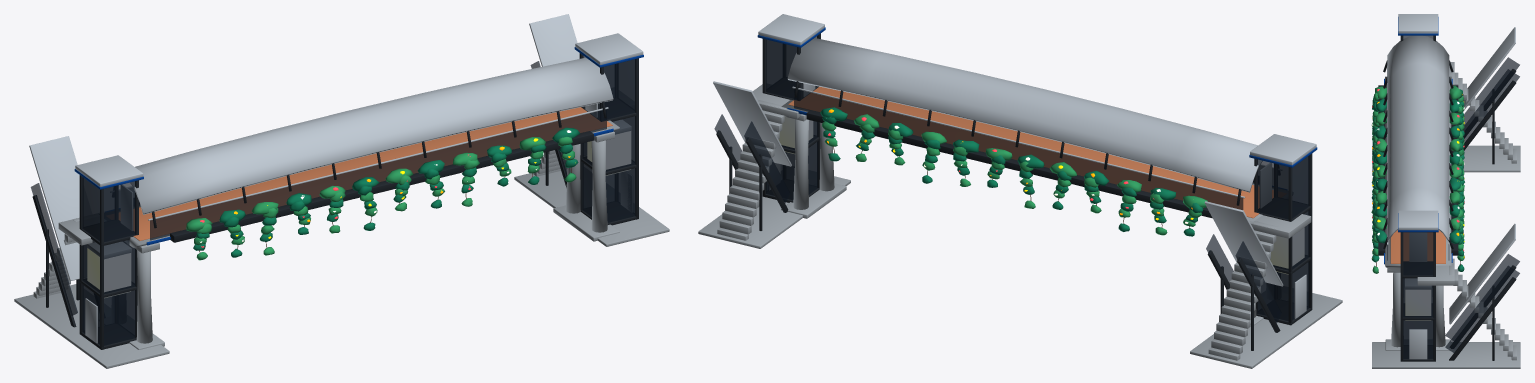
The model's file is kl_jejantas_bridge.glb.
The picture shows the model from 3 angles, left to right: view 1: azimuth 30°, elevation 25°; view 2: azimuth 150°, elevation 25°; view 3: azimuth 270°, elevation 25°; orthographic projection. The views are drawn at different scales.
Visible parts, largest first — view 1: Jejantas_Canopy_Roof, Jejantas_Deck_Walk, Jejantas_BalustradeGlass_Front, Jejantas_LiftGlassY_L_-1.0, Jejantas_LiftGlassY_R_-1.0, Jejantas_StairCanopy_L, Jejantas_Pad_L, Jejantas_Planter_Front, Jejantas_Pad_R, Jejantas_LiftGlassOut_L, Jejantas_StairCanopy_R, Jejantas_LiftGlassY_L_+1.0 (+22 smaller); view 2: Jejantas_Canopy_Roof, Jejantas_Deck_Walk, Jejantas_BalustradeGlass_Rear, Jejantas_LiftGlassY_L_+1.0, Jejantas_Pad_L, Jejantas_LiftGlassY_R_+1.0, Jejantas_Planter_Rear, Jejantas_StairCanopy_R, Jejantas_StairCanopy_L, Jejantas_Pad_R, Jejantas_LiftGlassOut_L, Jejantas_LiftGlassY_L_-1.0 (+17 smaller); view 3: Jejantas_Canopy_Roof, Jejantas_LiftGlassOut_R, Jejantas_Pad_R, Jejantas_Pad_L, Jejantas_StairCanopy_R, Jejantas_StairRail_R_+0.9, Jejantas_StairRail_R_-0.9, Jejantas_Deck_Walk, Jejantas_StairCanopy_L, Jejantas_StairRail_L_+0.9, Jejantas_LiftCrown_R, Jejantas_LiftCrown_L (+29 smaller).
Boxes of the visible parts, x1=… form: Jejantas_Canopy_Roof: x1=130, y1=57, x2=613, y2=214; Jejantas_Deck_Walk: x1=119, y1=107, x2=612, y2=240; Jejantas_BalustradeGlass_Front: x1=150, y1=109, x2=606, y2=240; Jejantas_LiftGlassY_L_-1.0: x1=104, y1=181, x2=135, y2=345; Jejantas_LiftGlassY_R_-1.0: x1=604, y1=59, x2=635, y2=222; Jejantas_StairCanopy_L: x1=29, y1=136, x2=79, y2=281; Jejantas_Pad_L: x1=14, y1=284, x2=169, y2=368; Jejantas_Planter_Front: x1=170, y1=131, x2=593, y2=242; Jejantas_Pad_R: x1=514, y1=168, x2=669, y2=246; Jejantas_LiftGlassOut_L: x1=82, y1=177, x2=99, y2=344; Jejantas_StairCanopy_R: x1=529, y1=14, x2=579, y2=66; Jejantas_LiftGlassY_L_+1.0: x1=84, y1=179, x2=114, y2=330; Jejantas_Canopy_Roof: x1=787, y1=38, x2=1262, y2=192; Jejantas_Deck_Walk: x1=788, y1=86, x2=1273, y2=218; Jejantas_BalustradeGlass_Rear: x1=794, y1=88, x2=1243, y2=209; Jejantas_LiftGlassY_L_+1.0: x1=1257, y1=159, x2=1288, y2=320; Jejantas_Pad_L: x1=1190, y1=293, x2=1342, y2=368; Jejantas_LiftGlassY_R_+1.0: x1=766, y1=39, x2=796, y2=200; Jejantas_Planter_Rear: x1=806, y1=110, x2=1212, y2=218; Jejantas_StairCanopy_R: x1=713, y1=81, x2=791, y2=166; Jejantas_StairCanopy_L: x1=1204, y1=201, x2=1283, y2=286; Jejantas_Pad_R: x1=698, y1=176, x2=850, y2=248; Jejantas_LiftGlassOut_L: x1=1292, y1=156, x2=1309, y2=319; Jejantas_LiftGlassY_L_-1.0: x1=1277, y1=157, x2=1307, y2=306; Jejantas_Canopy_Roof: x1=1387, y1=35, x2=1449, y2=241; Jejantas_LiftGlassOut_R: x1=1403, y1=232, x2=1433, y2=358; Jejantas_Pad_R: x1=1372, y1=342, x2=1520, y2=368; Jejantas_Pad_L: x1=1372, y1=145, x2=1520, y2=172; Jejantas_StairCanopy_R: x1=1449, y1=223, x2=1515, y2=324; Jejantas_StairRail_R_+0.9: x1=1445, y1=265, x2=1519, y2=352; Jejantas_StairRail_R_-0.9: x1=1445, y1=254, x2=1519, y2=340; Jejantas_Deck_Walk: x1=1390, y1=230, x2=1445, y2=263; Jejantas_StairCanopy_L: x1=1463, y1=27, x2=1515, y2=110; Jejantas_StairRail_L_+0.9: x1=1463, y1=69, x2=1519, y2=142; Jejantas_LiftCrown_R: x1=1398, y1=210, x2=1438, y2=230; Jejantas_LiftCrown_L: x1=1398, y1=14, x2=1438, y2=33.
Bounding box in the file's own units: 33.8 × 9.81 × 9.63.
